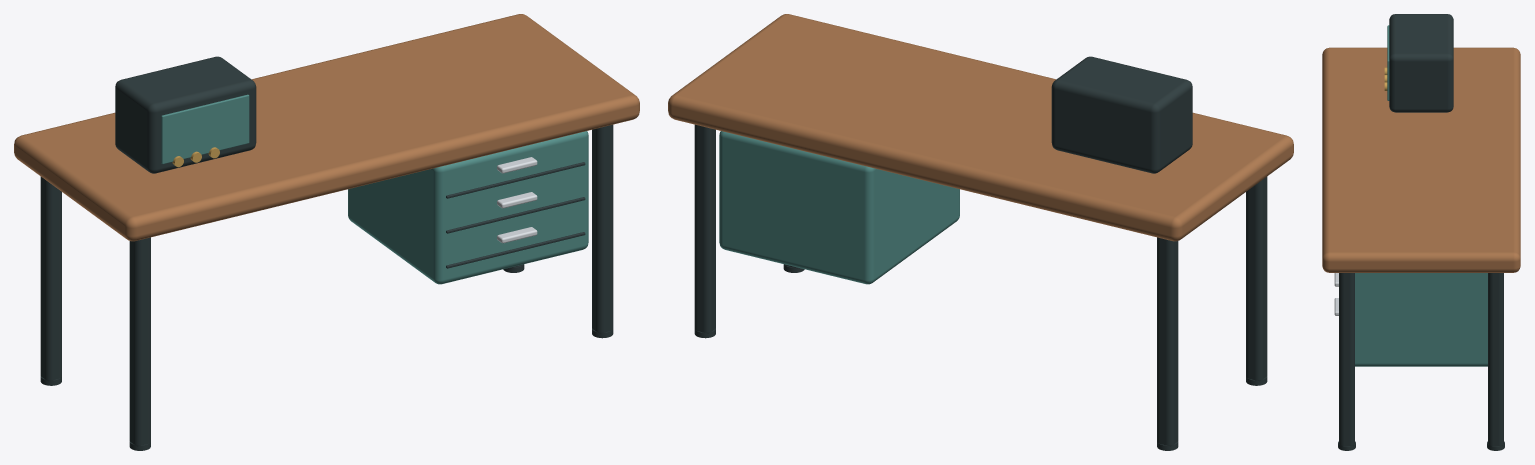
Rendered from technical-bench.glb.
3 renders of one model, left to right at view 1: azimuth 30°, elevation 25°; view 2: azimuth 150°, elevation 25°; view 3: azimuth 270°, elevation 25°, orthographic. The views are drawn at different scales.
Parts seen in each view (by area): view 1: technical-bench; view 2: technical-bench; view 3: technical-bench.
Part boxes in pixels (x1,y1,x2,y2): technical-bench: [14, 14, 639, 450]; technical-bench: [668, 14, 1293, 450]; technical-bench: [1322, 14, 1520, 450].
Bounding box in the file's own units: 2 × 1.16 × 0.8.
